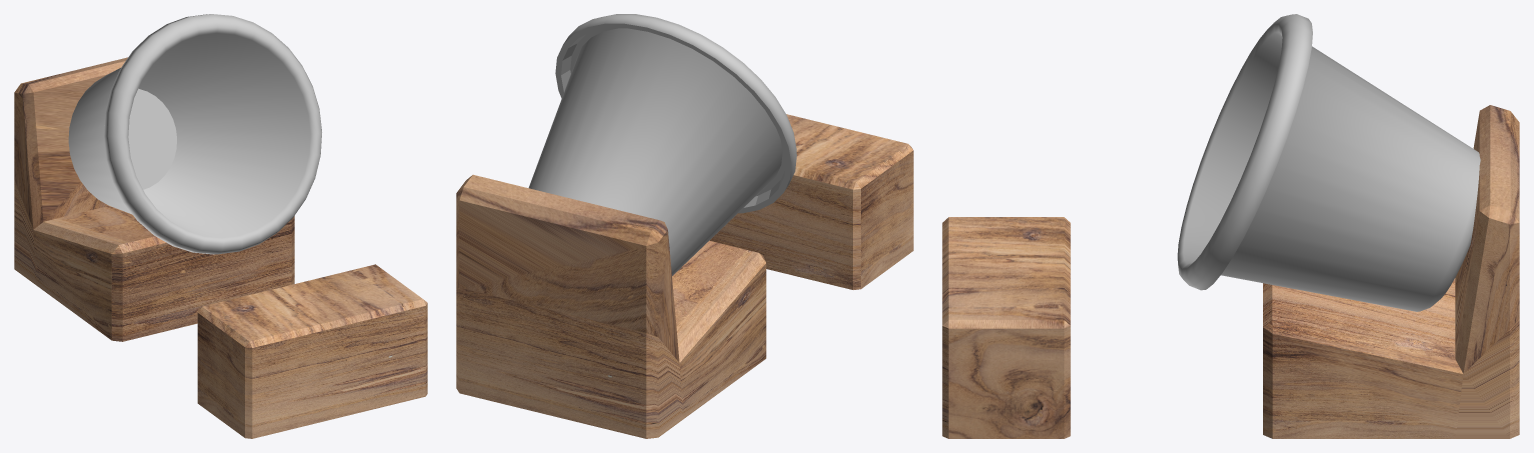
File: BallBucketStand.fbx
The picture shows the model from 3 angles, left to right: view 1: azimuth 30°, elevation 25°; view 2: azimuth 150°, elevation 25°; view 3: azimuth 270°, elevation 25°; orthographic projection. The views are drawn at different scales.
Parts seen in each view (by area): view 1: Cube, Cylinder; view 2: Cube, Cylinder; view 3: Cube, Cylinder.
Part boxes in pixels (left/top/right/bottom): Cube: left=14, top=57, right=427, bottom=438; Cylinder: left=68, top=14, right=321, bottom=254; Cube: left=456, top=114, right=913, bottom=438; Cylinder: left=528, top=14, right=796, bottom=275; Cube: left=942, top=105, right=1519, bottom=438; Cylinder: left=1177, top=14, right=1480, bottom=311.
Size of the model in its own units: 114 by 153 by 225.
